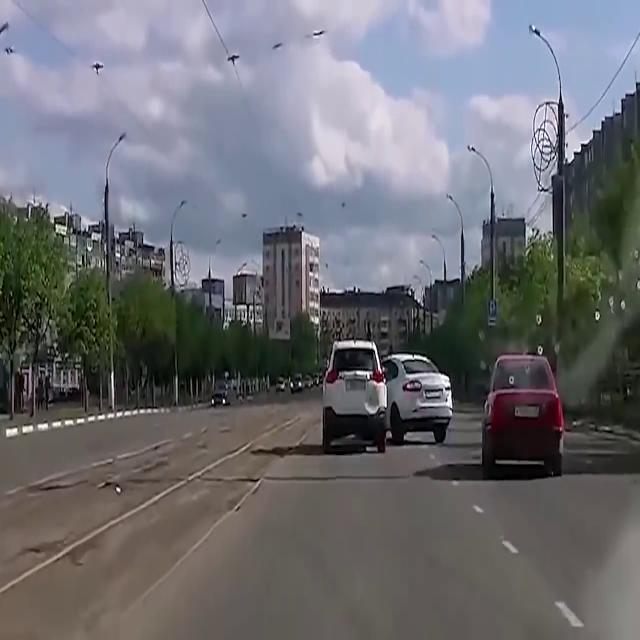accident: (319, 336, 451, 456)
